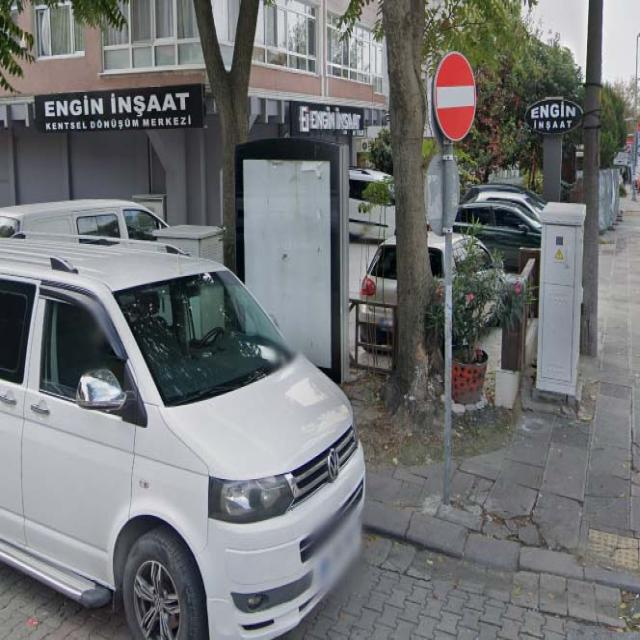girisyok: (435, 52, 477, 142)
